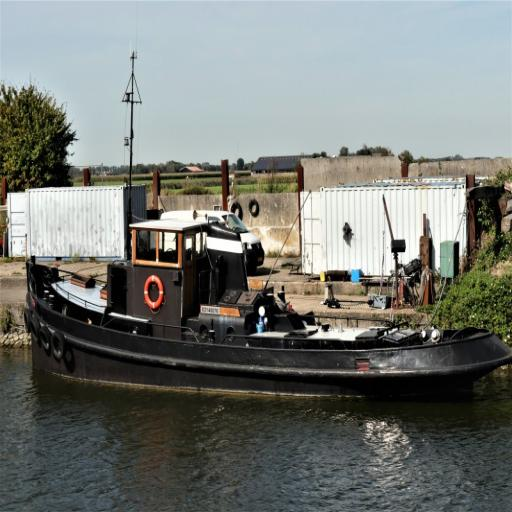tugboat: (21, 204, 512, 420)
